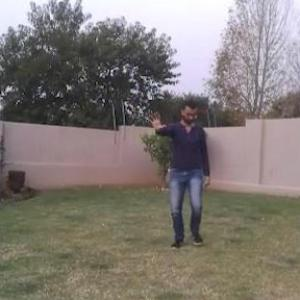follow_hand: (146, 108, 169, 134)
